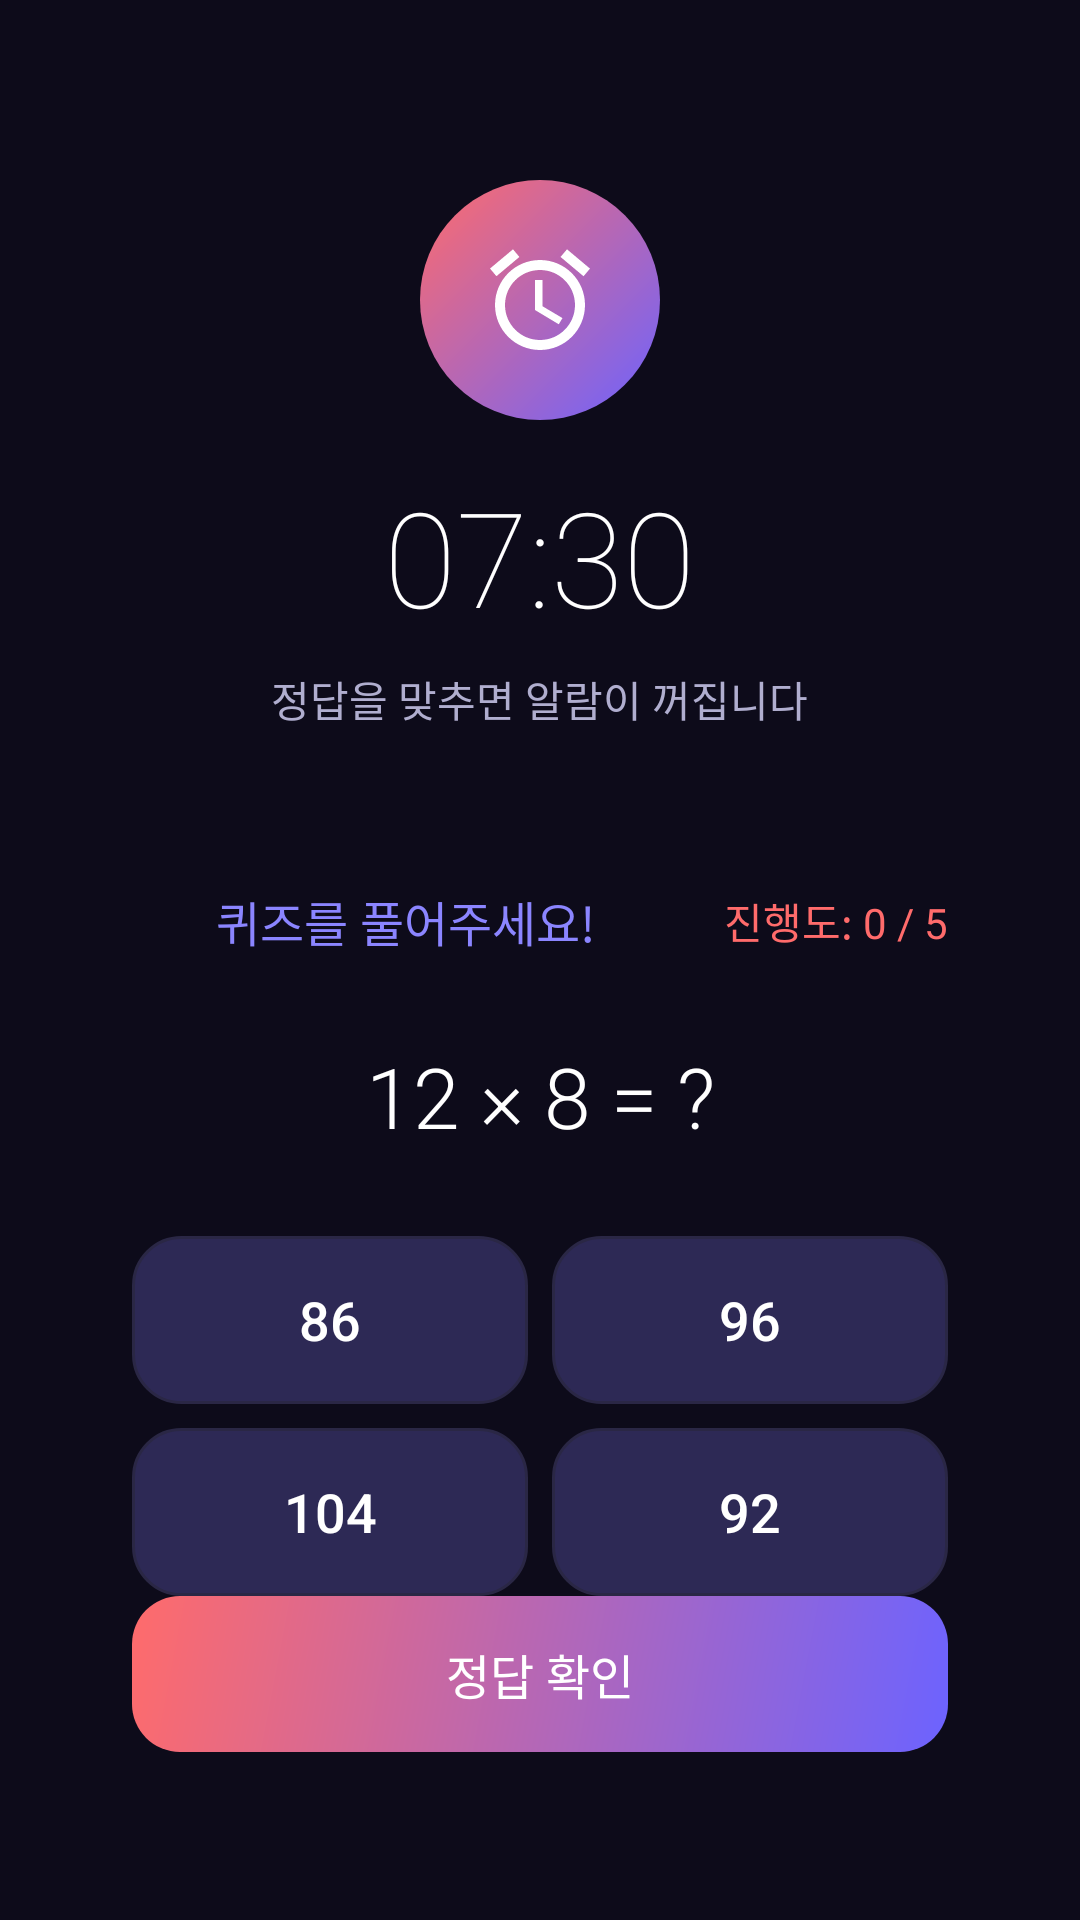

Icons on this 1080×1920 Android screen, each with the point to tap as (x,y):
alarm ringing: (540,300)
